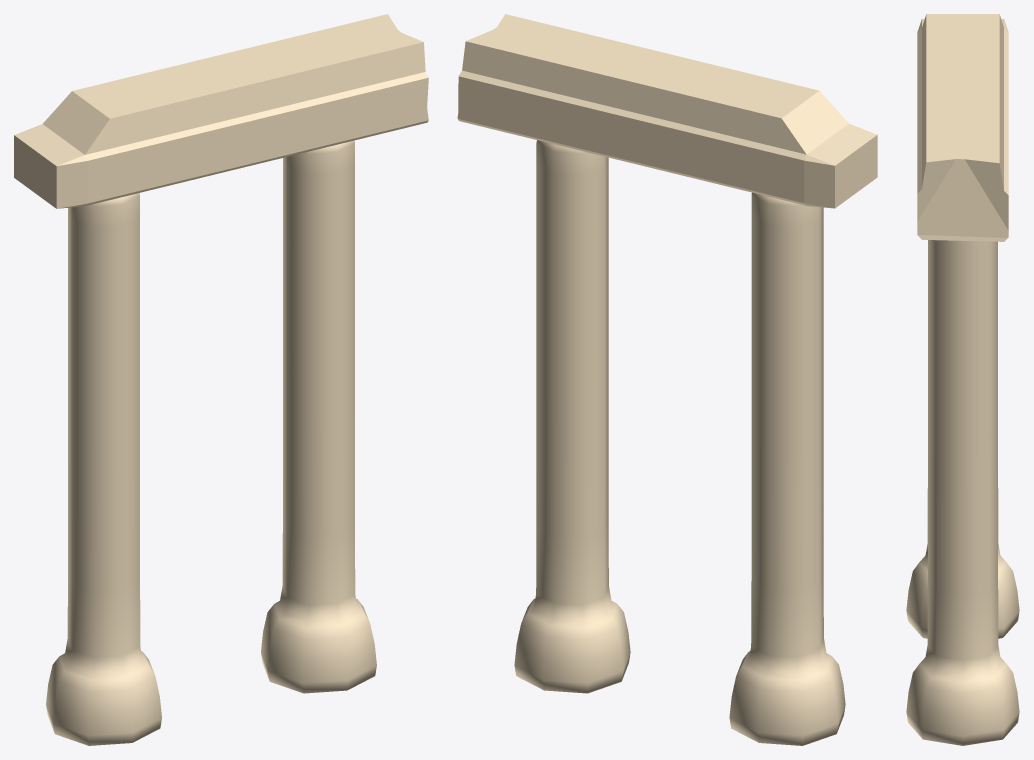
The model's file is columnN03.fbx.
3 renders of one model, left to right at view 1: azimuth 30°, elevation 25°; view 2: azimuth 150°, elevation 25°; view 3: azimuth 270°, elevation 25°, orthographic. The views are drawn at different scales.
Visible parts, largest first — view 1: columnN03, CupN03; view 2: columnN03, CupN03; view 3: columnN03, CupN03.
Part boxes in pixels (x1=…): columnN03: x1=46, y1=140, x2=376, y2=745; CupN03: x1=14, y1=14, x2=428, y2=208; columnN03: x1=514, y1=140, x2=845, y2=745; CupN03: x1=457, y1=14, x2=877, y2=208; columnN03: x1=906, y1=240, x2=1019, y2=745; CupN03: x1=917, y1=14, x2=1008, y2=241.
Bounding box in the file's own units: 921 × 1463 × 248.
